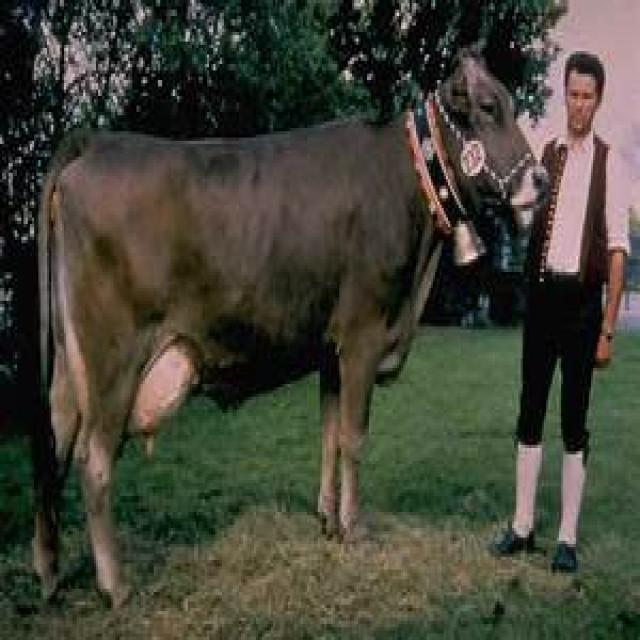animal: (26, 53, 552, 611)
